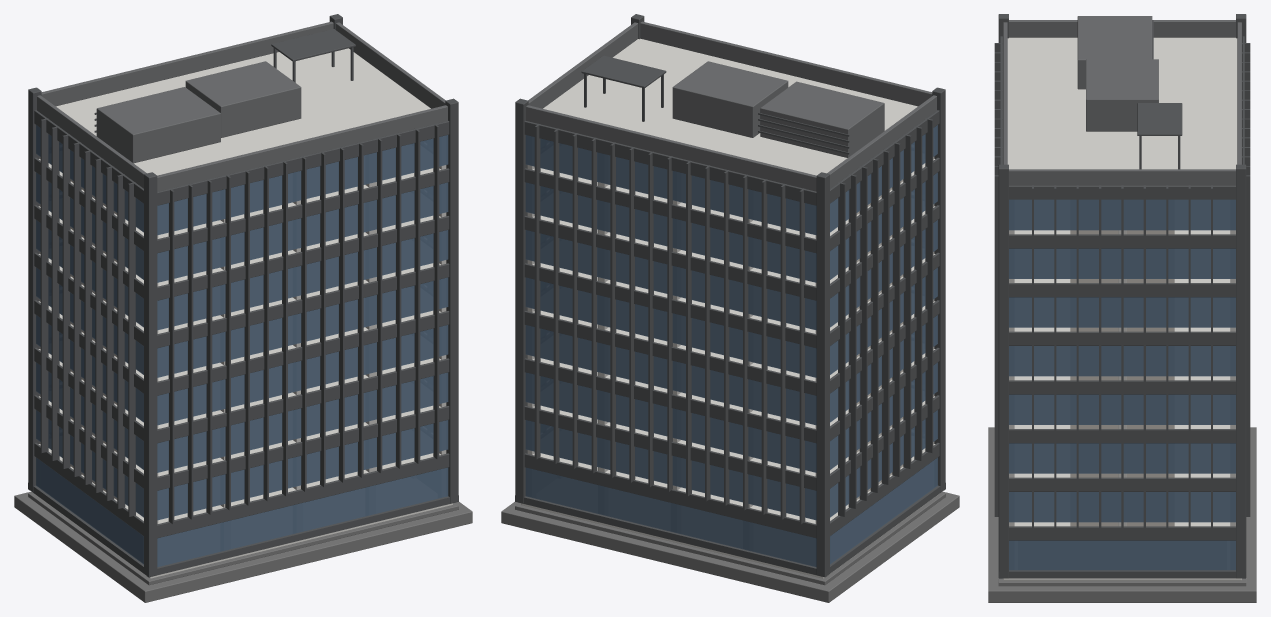
The model's file is building_exploded_assembly.glb.
3 renders of one model, left to right at view 1: azimuth 30°, elevation 25°; view 2: azimuth 150°, elevation 25°; view 3: azimuth 270°, elevation 25°, orthographic. The views are drawn at different scales.
Visible parts, largest first — view 1: facade, facade_fins_south, facade_fins_west, slab_09, rooftop_parapet, window_strip_01, foundation_raft, window_strip_05, window_strip_03, window_strip_06, window_strip_02, window_strip_07 (+14 smaller); view 2: facade, facade_fins_north, facade_fins_west, rooftop_parapet, slab_09, window_strip_01, foundation_raft, window_strip_05, window_strip_03, window_strip_06, window_strip_02, window_strip_07 (+15 smaller); view 3: facade, slab_09, facade_fins_east, rooftop_parapet, foundation_raft, window_strip_01, window_strip_08, window_strip_03, window_strip_06, window_strip_02, window_strip_04, window_strip_05 (+16 smaller).
Boxes of the visible parts, x1,y1,x2,y2 form: facade: [28, 14, 458, 577]; facade_fins_south: [168, 124, 439, 524]; facade_fins_west: [40, 118, 135, 516]; slab_09: [56, 48, 430, 175]; rooftop_parapet: [37, 21, 447, 191]; window_strip_01: [36, 457, 448, 567]; foundation_raft: [14, 491, 472, 602]; window_strip_05: [36, 267, 448, 377]; window_strip_03: [36, 362, 448, 472]; window_strip_06: [36, 220, 448, 330]; window_strip_02: [36, 410, 448, 520]; window_strip_07: [36, 172, 448, 282]; facade: [515, 14, 945, 577]; facade_fins_north: [534, 124, 805, 524]; facade_fins_west: [838, 118, 933, 516]; rooftop_parapet: [526, 21, 936, 191]; slab_09: [543, 38, 917, 175]; window_strip_01: [525, 457, 937, 567]; foundation_raft: [501, 491, 959, 602]; window_strip_05: [525, 267, 937, 377]; window_strip_03: [525, 362, 937, 472]; window_strip_06: [525, 220, 937, 330]; window_strip_02: [525, 410, 937, 520]; window_strip_07: [525, 172, 937, 282]; facade: [998, 14, 1246, 578]; slab_09: [1007, 37, 1237, 169]; facade_fins_east: [1032, 185, 1212, 529]; rooftop_parapet: [1003, 20, 1241, 185]; foundation_raft: [988, 427, 1256, 602]; window_strip_01: [1009, 540, 1235, 570]; window_strip_08: [1009, 199, 1235, 230]; window_strip_03: [1009, 443, 1235, 473]; window_strip_06: [1009, 297, 1235, 327]; window_strip_02: [1009, 492, 1235, 522]; window_strip_04: [1009, 394, 1235, 424]; window_strip_05: [1009, 346, 1235, 376].
Bounding box in the file's own units: 26 × 33.05 × 18.
